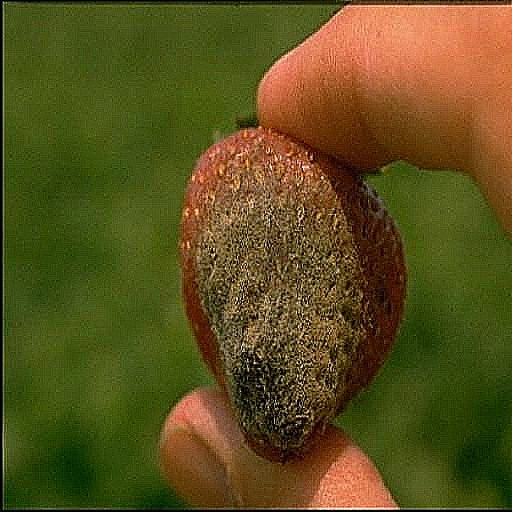Gray Mold: (183, 135, 387, 460)
